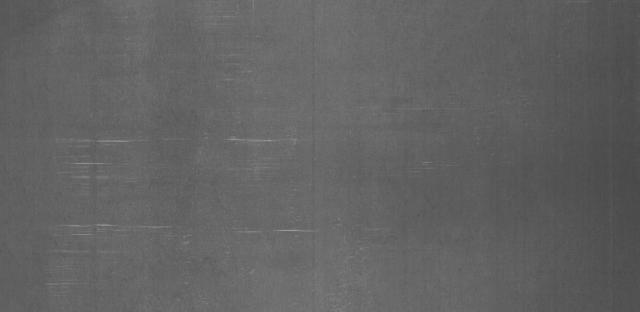waist_folding: (44, 78, 471, 276)
